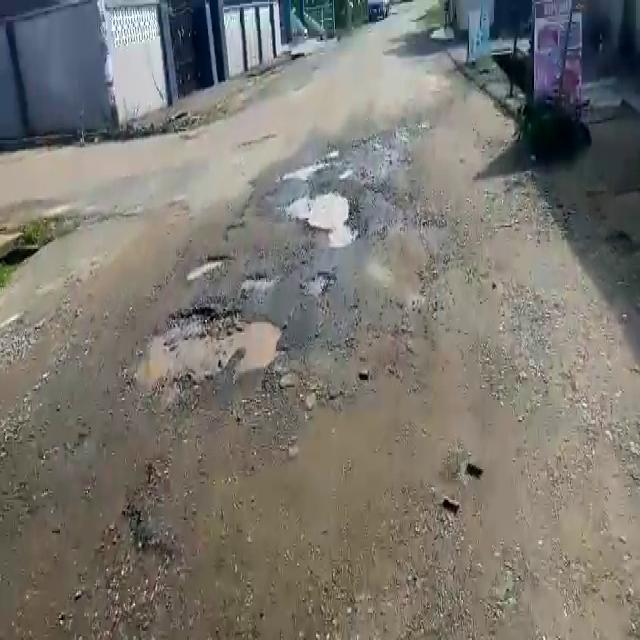Pothole: (129, 303, 287, 392), (284, 188, 356, 249), (191, 252, 230, 281), (295, 270, 332, 297), (286, 160, 327, 180), (242, 273, 279, 292)
